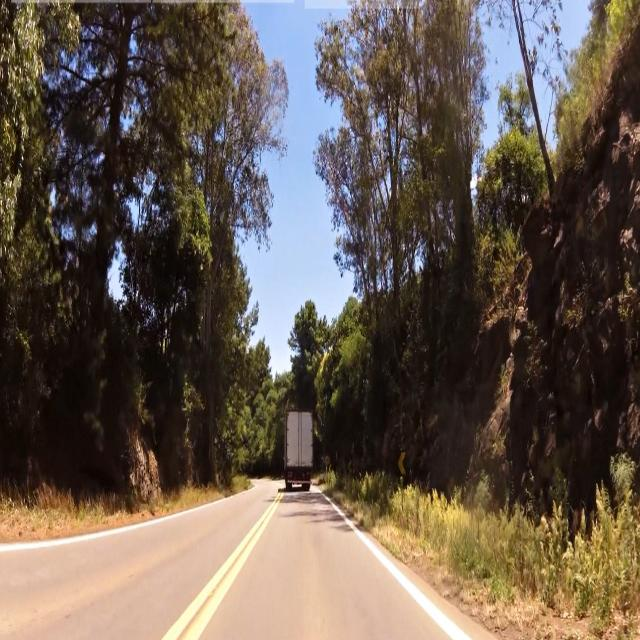Del: (398, 449, 410, 481)
